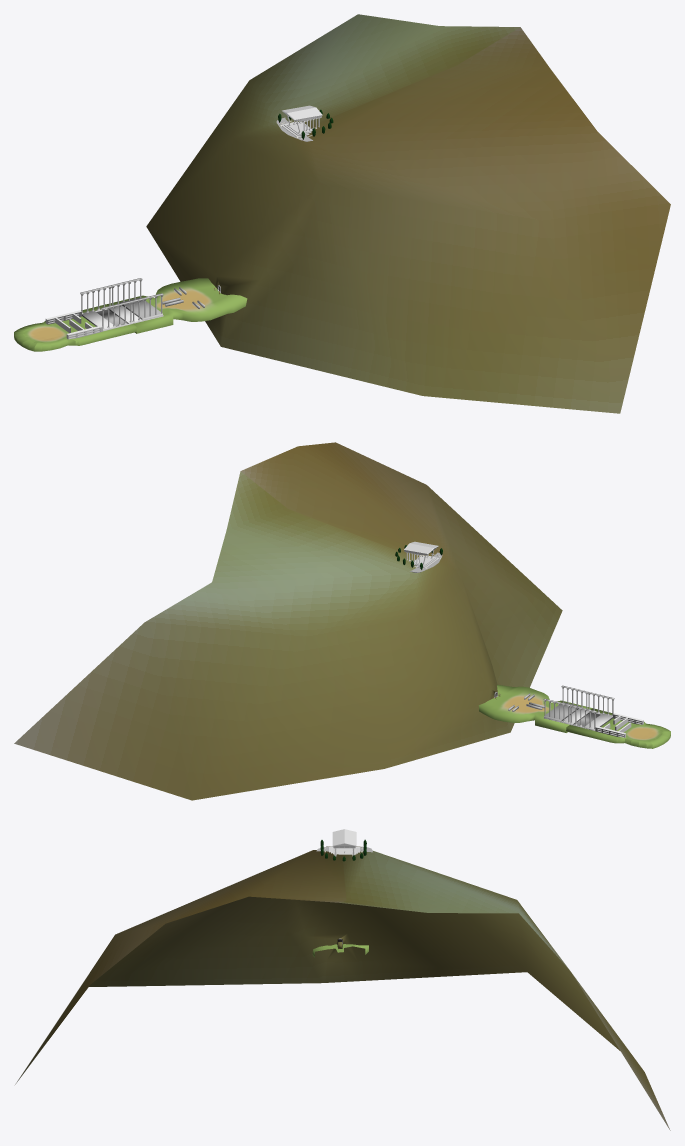
The model's file is BaseTutorial.obj.
The picture shows the model from 3 angles, top to bottom: view 1: azimuth 30°, elevation 25°; view 2: azimuth 150°, elevation 25°; view 3: azimuth 270°, elevation 25°; orthographic projection. The views are drawn at different scales.
Visible parts, largest first — view 1: Icosphere.002, Cube.009, Cube.554, Cube.722, Cube.011, Cube.010, Cube.001; view 2: Icosphere.002, Cube.009, Cube.554, Cube.722, Cube.001, Cube.011; view 3: Icosphere.002.
Part boxes in pixels (box(x1,y1,x2,y2)): Icosphere.002: box(146, 14, 670, 413); Cube.009: box(106, 278, 247, 333); Cube.554: box(14, 304, 136, 351); Cube.722: box(82, 297, 162, 330); Cube.011: box(45, 310, 102, 339); Cube.010: box(101, 293, 163, 331); Cube.001: box(80, 278, 142, 313); Icosphere.002: box(14, 442, 562, 800); Cube.009: box(478, 684, 592, 732); Cube.554: box(566, 708, 670, 748); Cube.722: box(544, 702, 612, 730); Cube.001: box(543, 698, 596, 730); Cube.011: box(595, 713, 643, 737); Icosphere.002: box(15, 850, 670, 1130).
Bounding box in the file's own units: 353 × 137 × 374.
